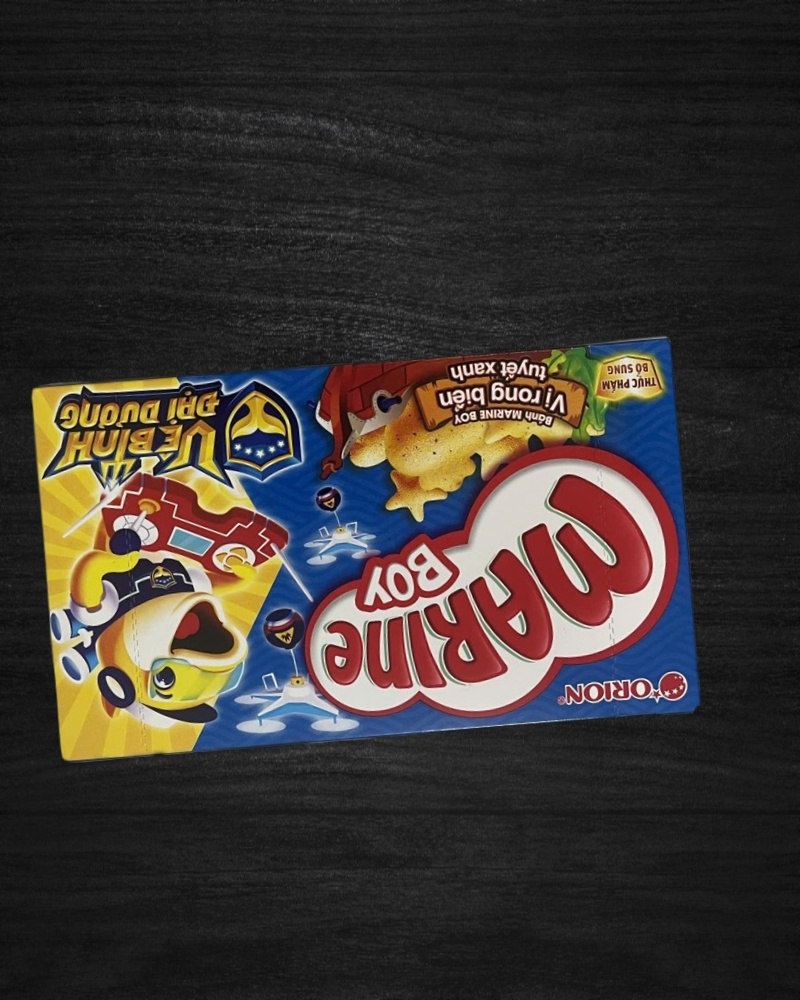Marine: (28, 331, 704, 768)
